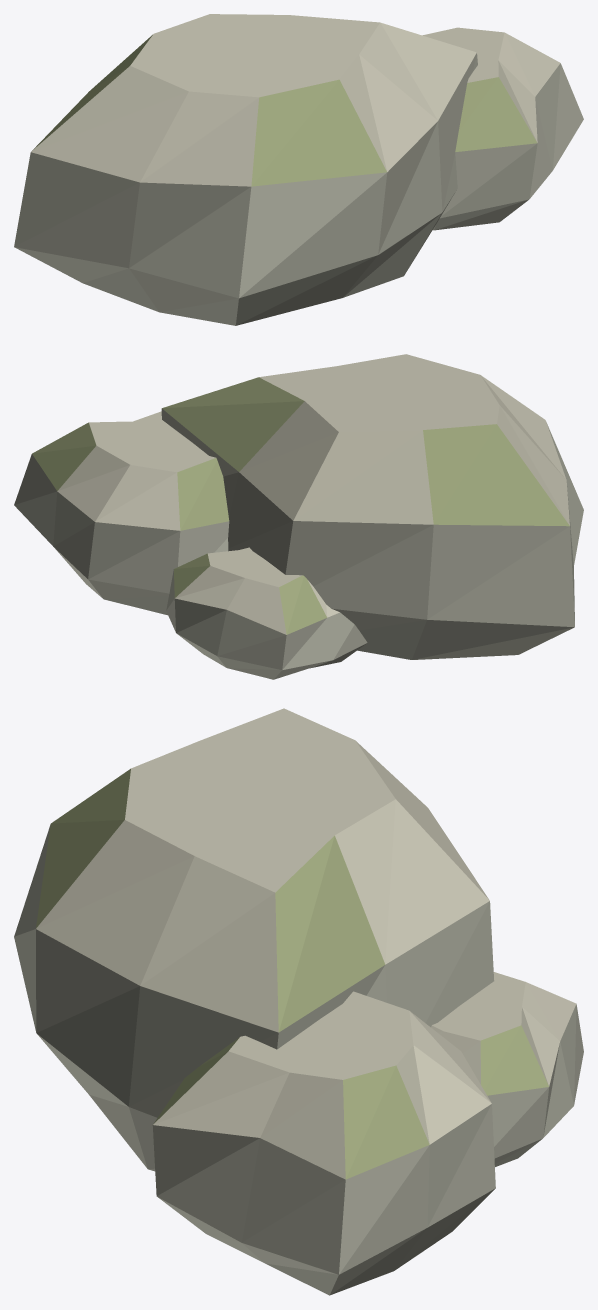
Rendered from arrival_fieldstones_v1.glb.
3 views of the same model, one above another, from view 1: azimuth 30°, elevation 25°; view 2: azimuth 150°, elevation 25°; view 3: azimuth 270°, elevation 25° (orthographic). The views are drawn at different scales.
Parts seen in each view (by area): view 1: Fieldstones; view 2: Fieldstones; view 3: Fieldstones.
Boxes of the visible parts, bbox=[...] form: Fieldstones: bbox=[14, 14, 583, 325]; Fieldstones: bbox=[14, 354, 583, 679]; Fieldstones: bbox=[14, 708, 583, 1295].
Size of the model in its own units: 2.16 by 0.8274 by 1.37.
